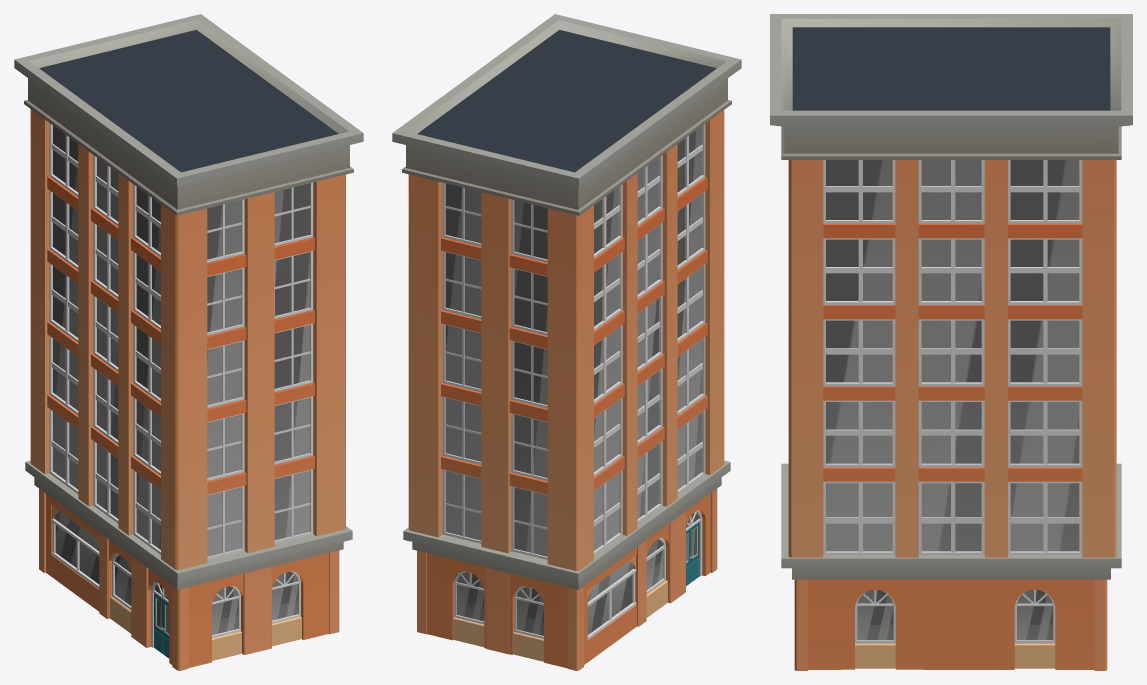
Rendered from Building_27_J.fbx.
The picture shows the model from 3 angles, left to right: view 1: azimuth 30°, elevation 25°; view 2: azimuth 150°, elevation 25°; view 3: azimuth 270°, elevation 25°; orthographic projection. The views are drawn at different scales.
Visible parts, largest first — view 1: Building_27_J; view 2: Building_27_J; view 3: Building_27_J.
Part boxes in pixels (x1=…): Building_27_J: x1=14, y1=14, x2=363, y2=670; Building_27_J: x1=392, y1=14, x2=741, y2=670; Building_27_J: x1=770, y1=14, x2=1132, y2=670.
Bounding box in the file's own units: 765 × 1974 × 1155.
